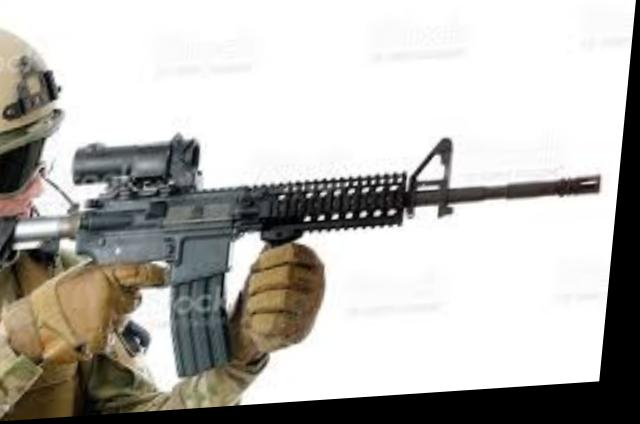other: (0, 58, 302, 422)
